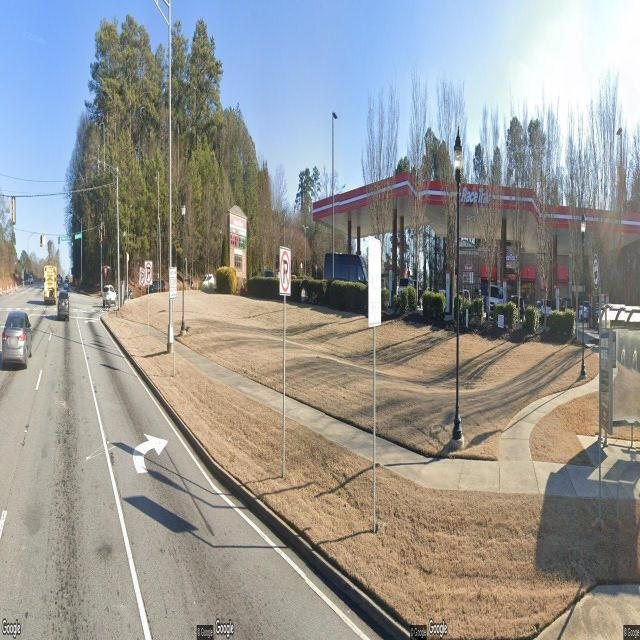seating: (625, 415, 640, 451)
shelter: (597, 299, 640, 455)
